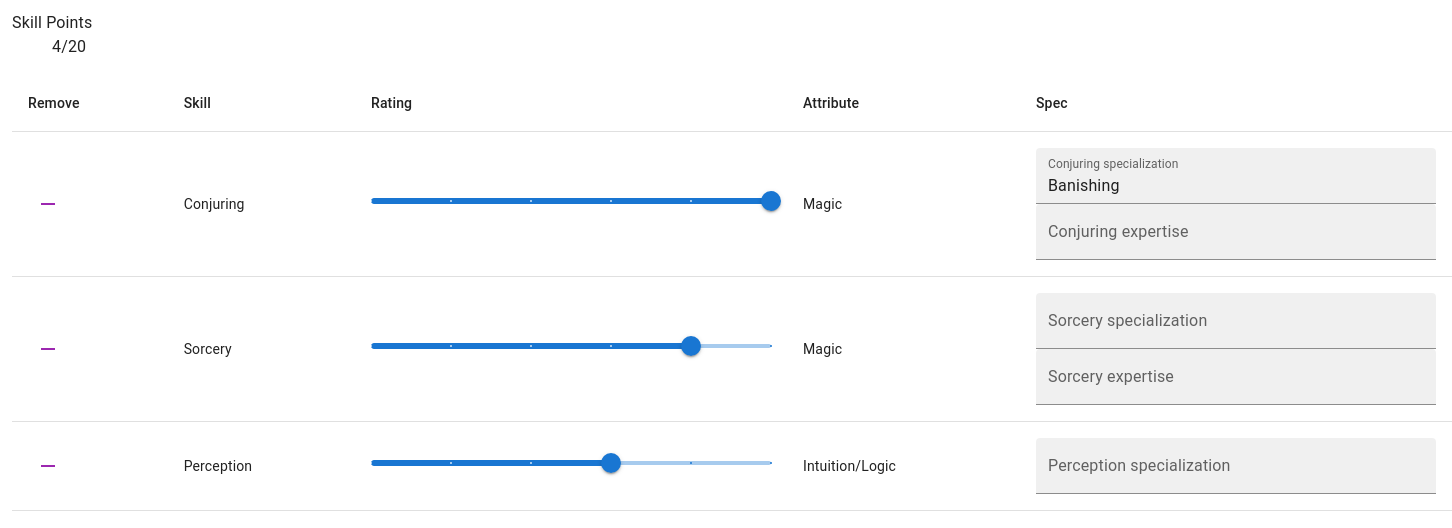
Test case: <RunnerSkillTable/> › specialization › should set specialization from dropdown
Click the dropdown labelled "Conjuring specialization". click: (1220, 186)
box: [1044,167,1397,204]
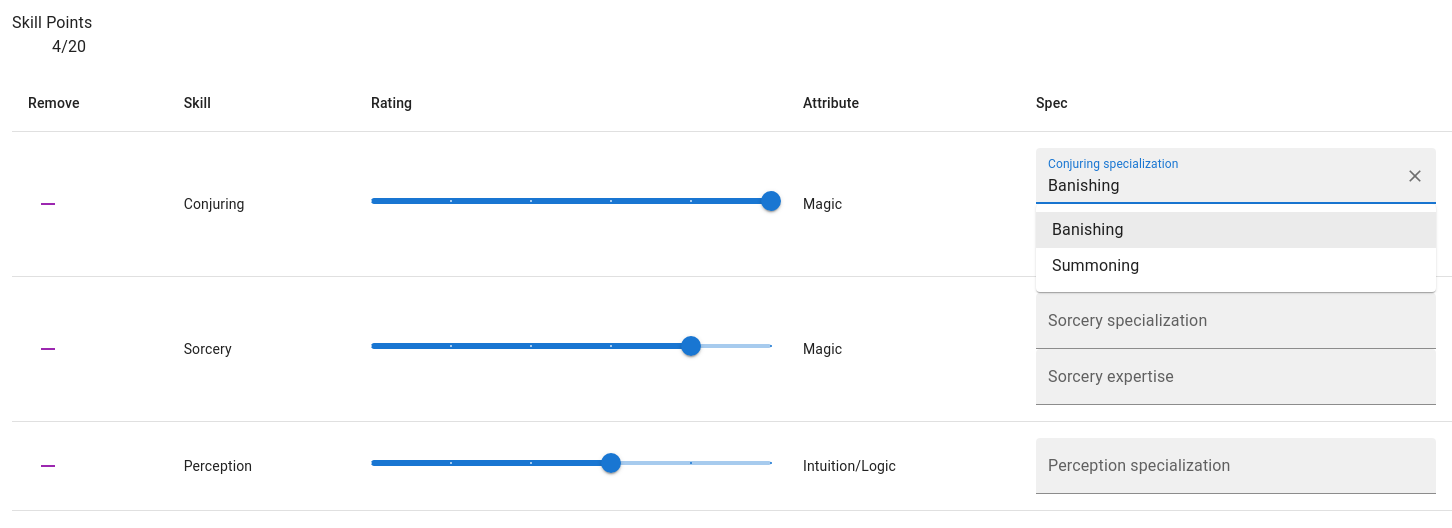
Check: the list is shown, box [1036,204,1436,292]
Click the option "Summoning". click: (1096, 266)
box: [1052,256,1139,275]
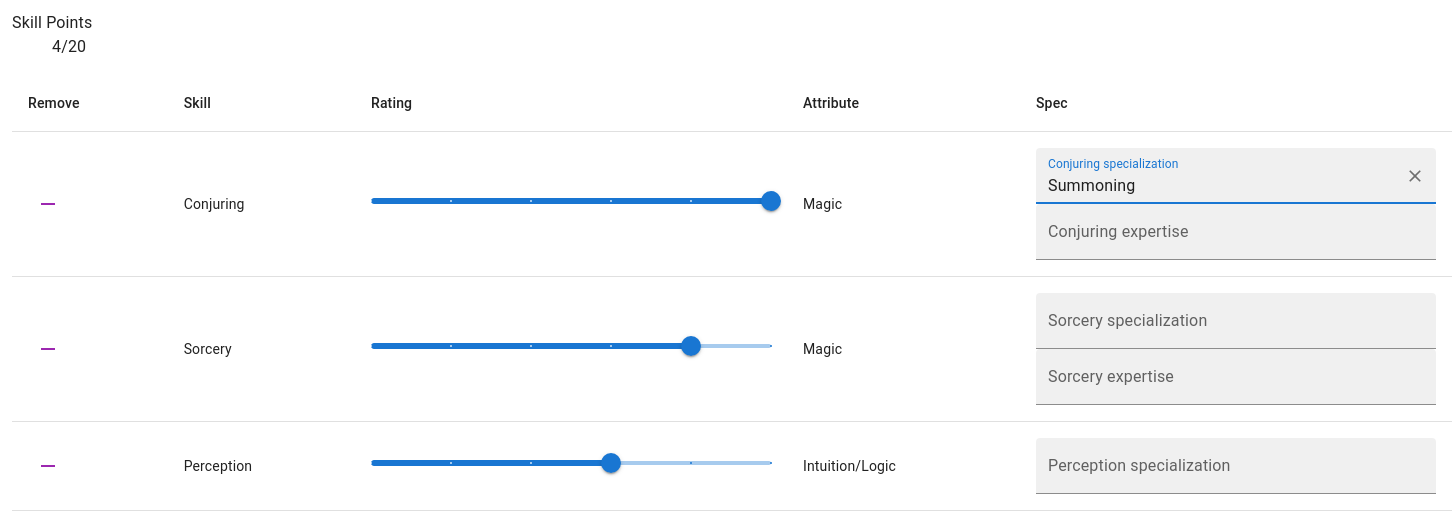
Check: the dropdown labelled "Conjuring specialization" holds "Summoning", box [1044,167,1397,204]
